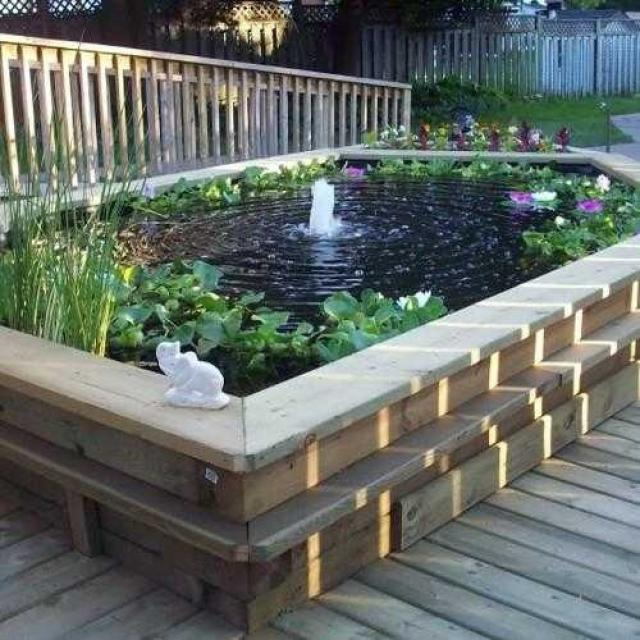Ponds: (1, 148, 640, 471)
